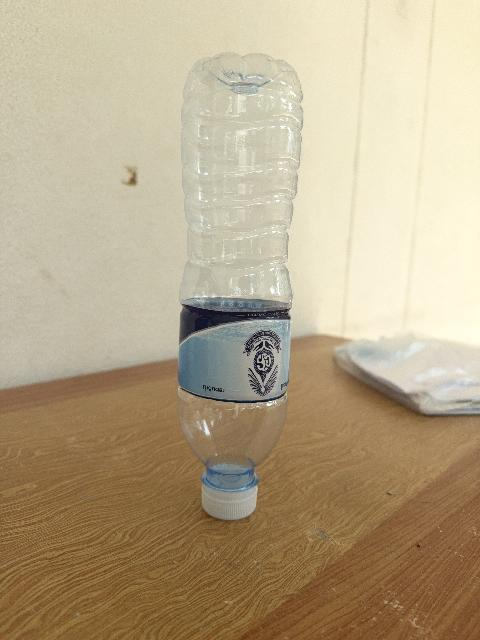bottle: (177, 54, 301, 519)
